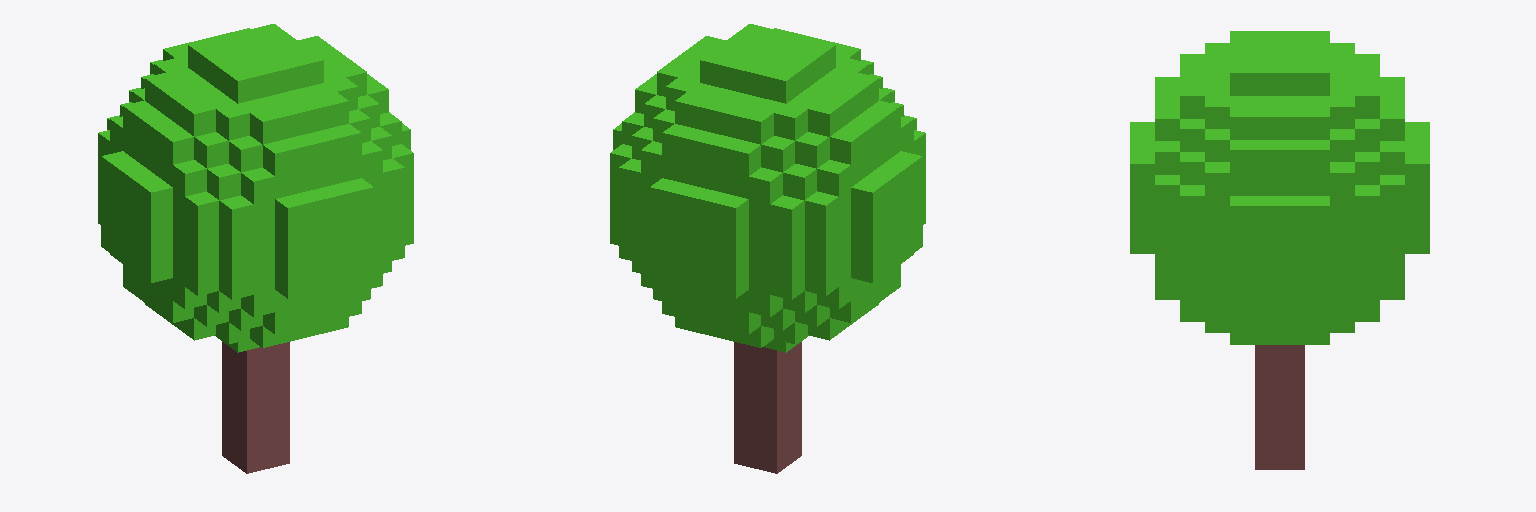
The picture shows the model from 3 angles: view 1: azimuth 30°, elevation 25°; view 2: azimuth 150°, elevation 25°; view 3: azimuth 270°, elevation 25°; orthographic projection.
Visible parts, largest first — view 1: tree_circle; view 2: tree_circle; view 3: tree_circle.
Boxes of the visible parts, x1=… form: tree_circle: x1=98, y1=24, x2=413, y2=473; tree_circle: x1=610, y1=24, x2=925, y2=473; tree_circle: x1=1130, y1=31, x2=1429, y2=469.
Size of the model in its own units: 12 by 18 by 12.
1 materials, 1 textured.